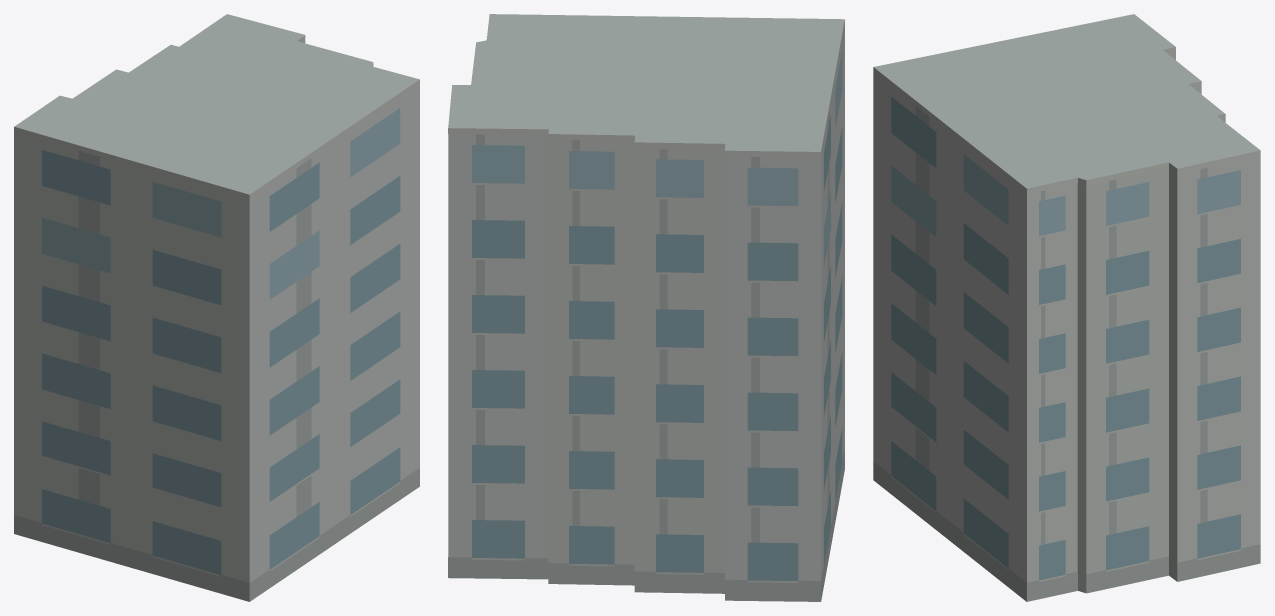
The model's file is survey-upis-32969216.glb.
3 renders of one model, left to right at view 1: azimuth 30°, elevation 25°; view 2: azimuth 150°, elevation 25°; view 3: azimuth 270°, elevation 25°, orthographic. The views are drawn at different scales.
Parts seen in each view (by area): view 1: survey-upis-32969216.tmp; view 2: survey-upis-32969216.tmp; view 3: survey-upis-32969216.tmp.
Part boxes in pixels (<box>): survey-upis-32969216.tmp: <box>14,14,419,601</box>; survey-upis-32969216.tmp: <box>448,14,844,601</box>; survey-upis-32969216.tmp: <box>873,14,1260,601</box>.
Size of the model in its own units: 16.6 by 18.3 by 15.55.
